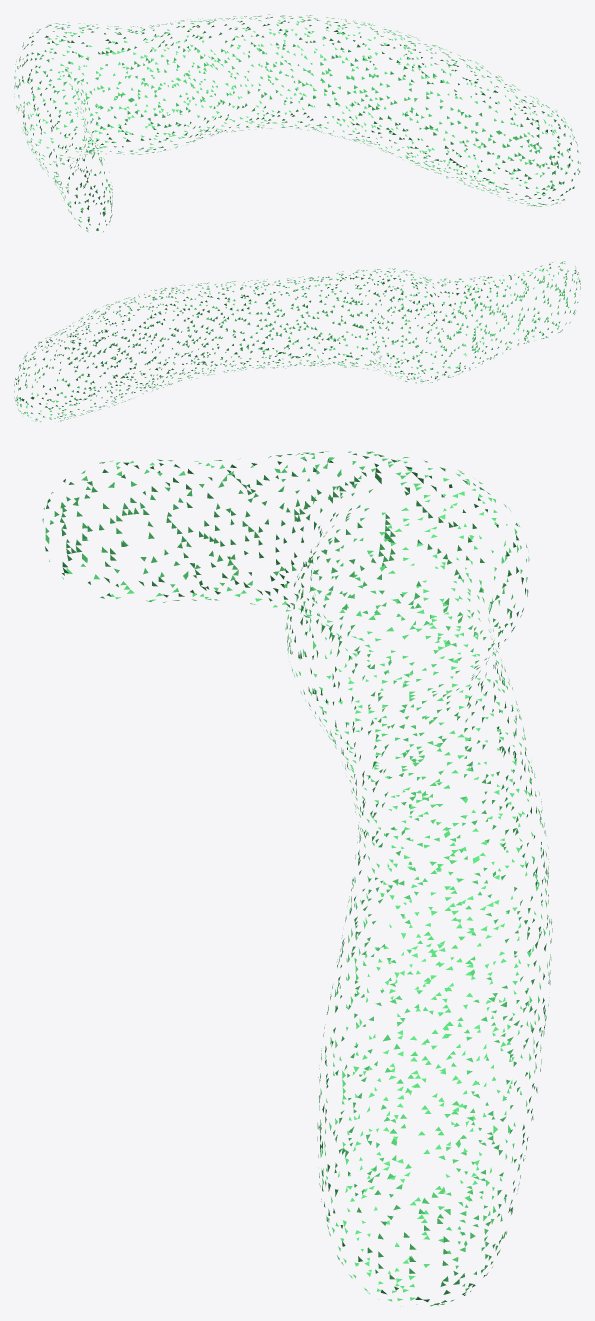
File: morph_020.glb
3 renders of one model, top to bottom at view 1: azimuth 30°, elevation 25°; view 2: azimuth 150°, elevation 25°; view 3: azimuth 270°, elevation 25°, orthographic. The views are drawn at different scales.
Size of the model in its own units: 116 by 54.59 by 54.81.
